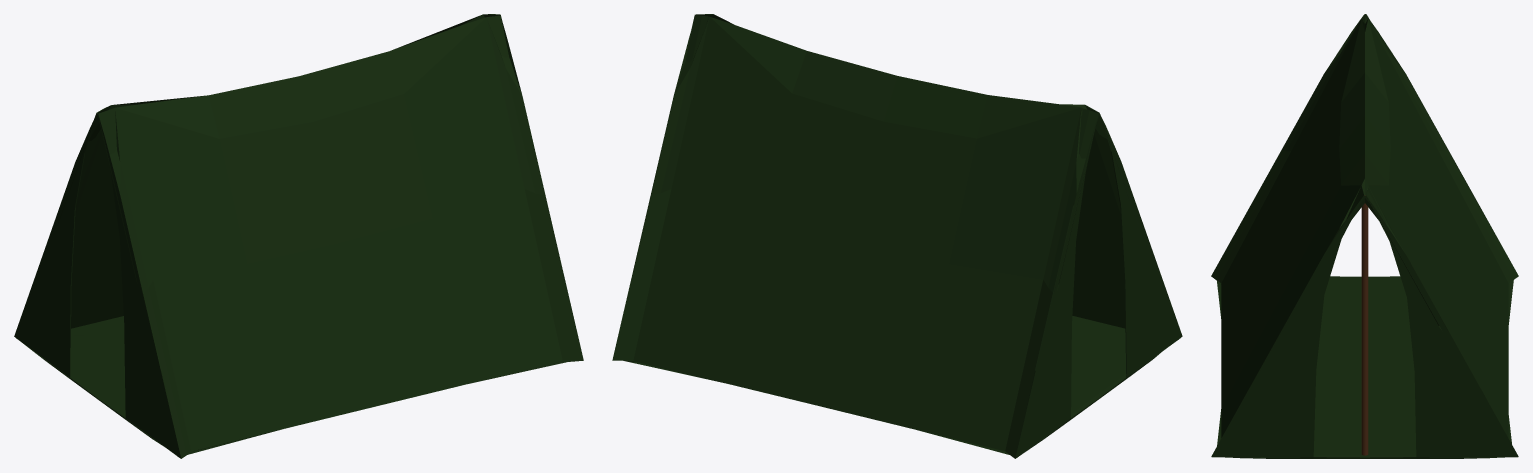
The model's file is Tent.fbx.
3 views of the same model, side by side, from view 1: azimuth 30°, elevation 25°; view 2: azimuth 150°, elevation 25°; view 3: azimuth 270°, elevation 25° (orthographic). The views are drawn at different scales.
Parts seen in each view (by area): view 1: Cylinder; view 2: Cylinder; view 3: Cylinder.
Part boxes in pixels (box(x1,y1,x2,y2)): Cylinder: box(14, 14, 583, 458); Cylinder: box(612, 14, 1182, 458); Cylinder: box(1211, 14, 1518, 458).
Size of the model in its own units: 564 by 390 by 405.
